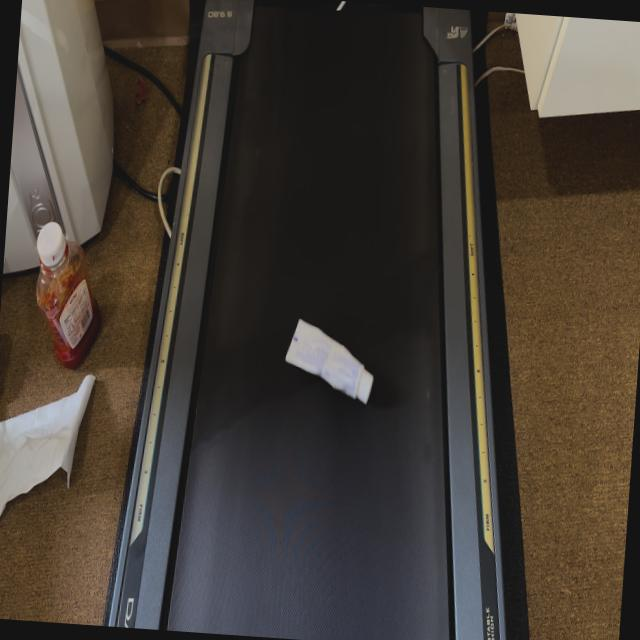Trash: (282, 316, 378, 406)
